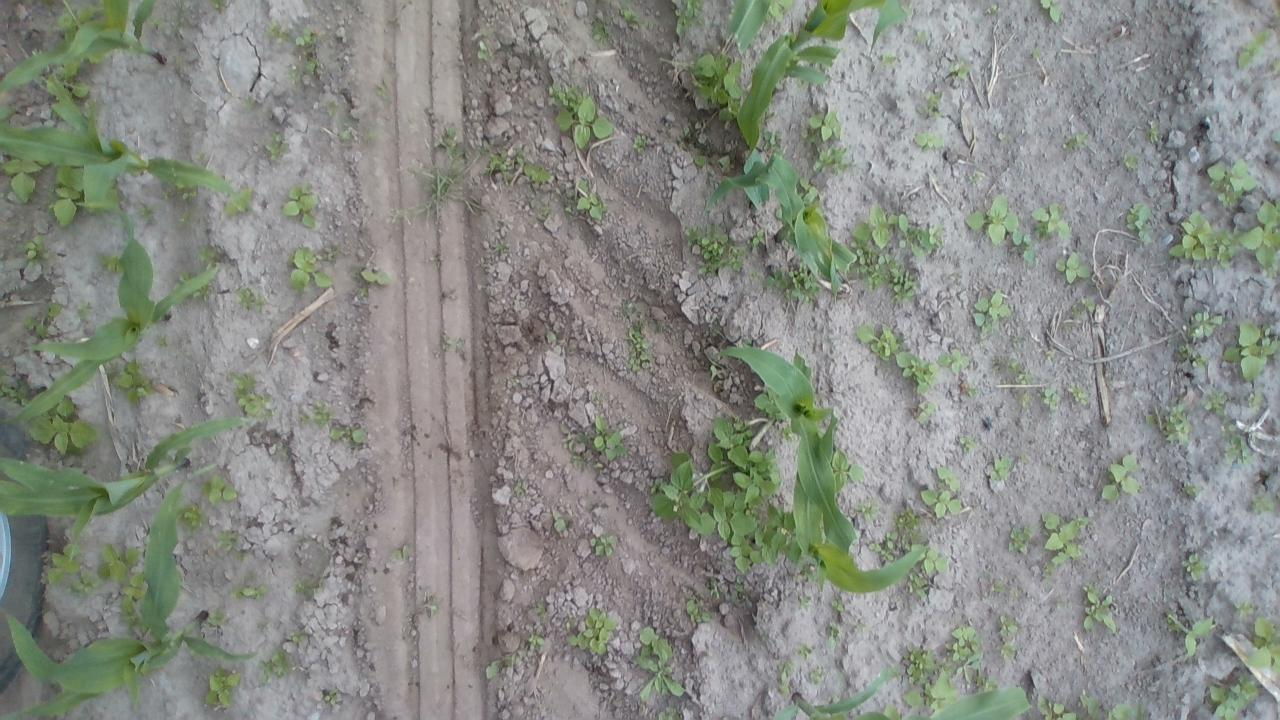Maize: (2, 479, 261, 720), (716, 346, 930, 596), (3, 200, 217, 426), (737, 0, 906, 209), (2, 414, 240, 559), (0, 74, 243, 209), (712, 151, 858, 291), (0, 0, 170, 92), (771, 667, 1034, 720), (717, 0, 771, 55)
Weeds: (646, 412, 800, 571), (399, 143, 478, 224), (856, 318, 938, 393), (1217, 317, 1280, 384), (690, 46, 744, 122), (853, 242, 916, 304), (30, 397, 98, 454), (632, 626, 684, 700), (1169, 211, 1237, 266), (1236, 197, 1280, 279), (686, 222, 746, 277), (1036, 510, 1087, 574), (966, 187, 1018, 243), (558, 95, 612, 148), (848, 202, 912, 246), (920, 463, 966, 519), (758, 261, 818, 303), (1209, 157, 1260, 205), (1202, 678, 1260, 718), (1144, 401, 1194, 447), (570, 604, 614, 656), (106, 361, 158, 402), (1166, 610, 1210, 658), (283, 183, 326, 232), (1101, 448, 1142, 498), (290, 247, 332, 293), (94, 542, 142, 582), (4, 158, 47, 202), (1084, 582, 1121, 633), (42, 542, 82, 589), (621, 320, 654, 374), (1246, 616, 1280, 668), (1239, 22, 1275, 71), (231, 372, 268, 419), (590, 416, 630, 459), (1030, 200, 1074, 239), (204, 667, 243, 711), (906, 672, 958, 704), (894, 500, 924, 554), (56, 164, 82, 226), (946, 623, 988, 661), (1221, 424, 1257, 468), (558, 424, 590, 472), (974, 288, 1012, 327), (811, 102, 847, 143), (1124, 202, 1156, 246), (902, 639, 938, 678), (989, 349, 1030, 383), (1186, 308, 1229, 340), (994, 614, 1021, 664), (257, 650, 294, 686), (907, 221, 946, 255), (832, 445, 862, 489), (119, 574, 146, 622), (1054, 250, 1092, 282), (674, 0, 706, 37), (202, 474, 240, 505), (230, 574, 272, 602), (1009, 518, 1038, 556), (1202, 390, 1232, 426), (61, 62, 91, 98), (1170, 340, 1207, 369), (518, 159, 556, 186), (1036, 695, 1076, 720), (870, 530, 901, 562), (854, 496, 884, 528), (812, 146, 851, 170), (263, 136, 293, 166), (226, 189, 253, 222), (328, 426, 372, 446), (938, 346, 972, 371), (578, 190, 605, 221), (922, 549, 954, 574), (1248, 487, 1276, 514), (686, 598, 713, 626), (906, 573, 933, 600), (1010, 232, 1036, 260), (358, 268, 391, 290), (918, 91, 943, 120), (760, 125, 789, 150), (58, 6, 96, 25), (916, 129, 946, 153), (1184, 553, 1210, 580), (800, 175, 822, 205), (769, 0, 802, 19), (1040, 0, 1066, 24), (908, 400, 936, 422), (632, 127, 651, 159), (827, 616, 843, 654), (587, 535, 619, 554), (779, 658, 795, 694), (294, 63, 319, 86), (1242, 391, 1268, 413), (76, 569, 96, 597), (1044, 383, 1062, 414), (1181, 479, 1205, 502), (1106, 706, 1145, 720), (988, 454, 1009, 480), (436, 123, 456, 150), (1122, 150, 1142, 176), (198, 242, 224, 262), (182, 501, 201, 528), (1070, 296, 1098, 314), (616, 9, 644, 27), (1148, 119, 1164, 149), (266, 19, 286, 43), (24, 316, 48, 336), (484, 657, 504, 680), (552, 508, 568, 536), (957, 431, 978, 452), (808, 666, 832, 684), (26, 242, 50, 260), (239, 292, 266, 307), (952, 57, 972, 77), (749, 226, 769, 246), (1236, 600, 1258, 618), (215, 530, 242, 544), (485, 154, 503, 175), (1068, 386, 1088, 404), (76, 302, 95, 320), (1069, 128, 1085, 148), (1078, 694, 1098, 710), (101, 255, 122, 270), (176, 184, 198, 198), (438, 334, 457, 350), (314, 406, 330, 425), (1018, 390, 1033, 410), (884, 54, 904, 69), (324, 690, 340, 708), (296, 26, 312, 44), (982, 4, 1001, 19), (590, 22, 604, 42), (988, 576, 1003, 594), (527, 634, 546, 648), (1010, 587, 1024, 605), (390, 544, 410, 556), (660, 709, 681, 720), (963, 380, 977, 396), (140, 202, 154, 218), (801, 644, 819, 656), (48, 302, 62, 317), (916, 27, 930, 41), (338, 129, 350, 143), (696, 153, 708, 167), (832, 594, 843, 609), (292, 630, 308, 640), (513, 479, 521, 497), (212, 0, 226, 10), (297, 582, 308, 594), (328, 102, 338, 115), (1030, 47, 1042, 57), (160, 189, 172, 199), (534, 602, 544, 612), (494, 240, 506, 248)
